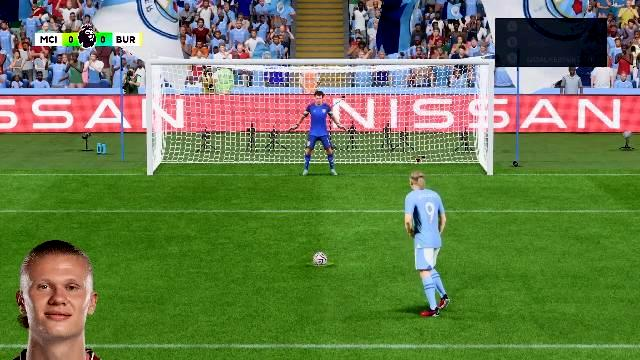bottom-left: (153, 128, 265, 176)
bottom-right: (370, 126, 488, 176)
center-down: (268, 126, 368, 176)
center-up: (268, 65, 368, 123)
circle: (370, 65, 488, 124), (307, 260, 335, 266)
football: (314, 253, 328, 264)
goalkeeper: (292, 87, 346, 179)
player: (393, 171, 455, 323)
top-left: (152, 66, 266, 124)
